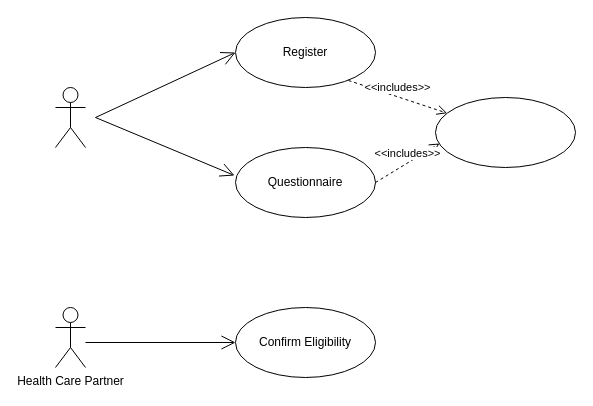
The diagram is 593 pixels wide and 406 high, and some of its shapes have lost their labels. Each missing label, with the centre of its shape:
"Login" goes at (x=505, y=132).
"Participant" goes at (x=70, y=117).
